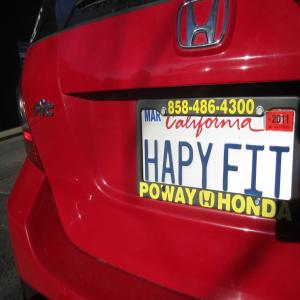Vehicle-registration-plate: (128, 90, 298, 222)
